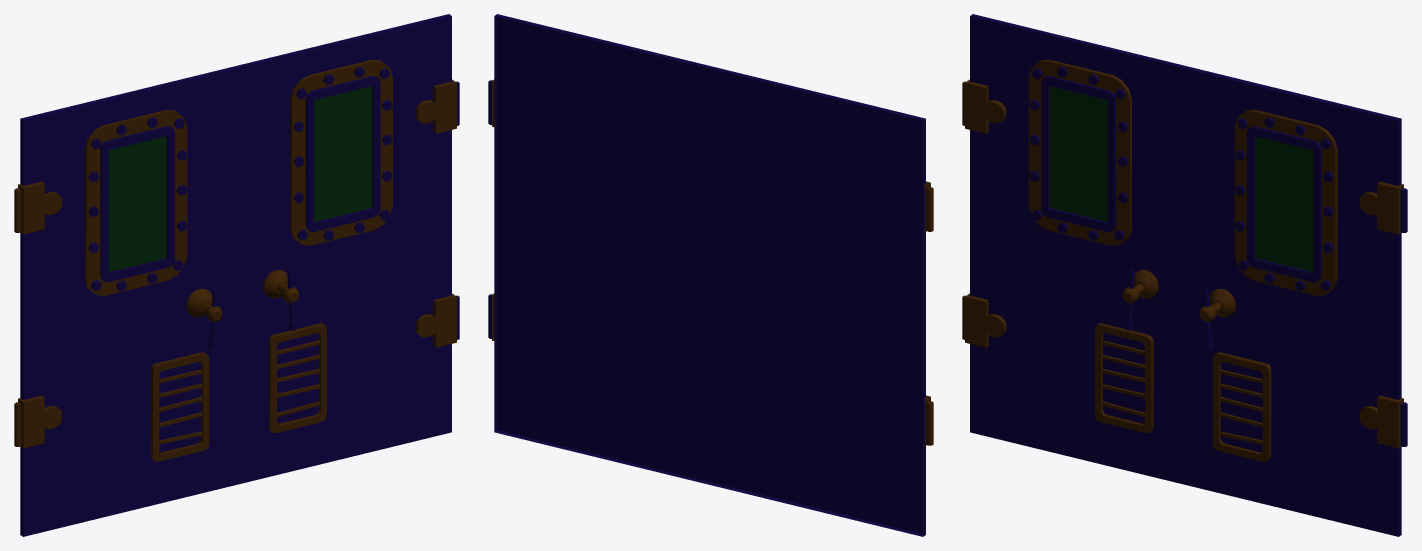
Rendered from Door_Double_Metal_01.FBX.
The picture shows the model from 3 angles, left to right: view 1: azimuth 30°, elevation 25°; view 2: azimuth 150°, elevation 25°; view 3: azimuth 330°, elevation 25°; orthographic projection.
Parts seen in each view (by area): view 1: Door_Double_Metal_01_LOD0; view 2: Door_Double_Metal_01_LOD0; view 3: Door_Double_Metal_01_LOD0.
Part boxes in pixels (x1,y1,x2,y2): Door_Double_Metal_01_LOD0: (14, 14, 459, 536); Door_Double_Metal_01_LOD0: (488, 14, 933, 536); Door_Double_Metal_01_LOD0: (962, 14, 1407, 536).
Bounding box in the file's own units: 314 × 282 × 26.08.
